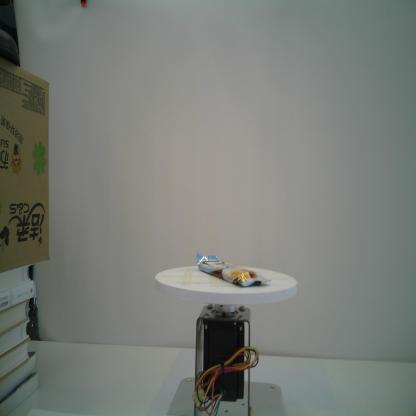Chocolate: (196, 252, 273, 289)
